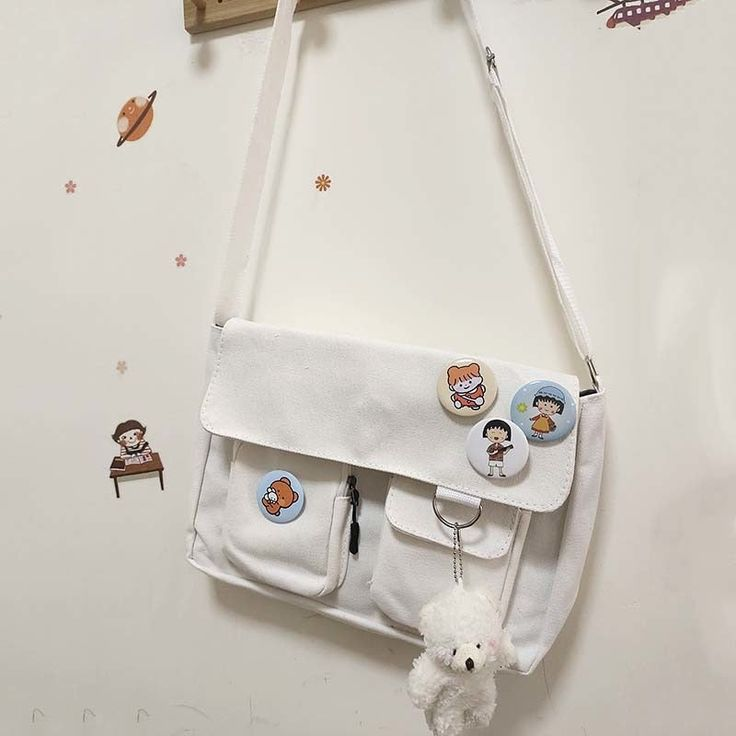nylon: (183, 1, 608, 676)
